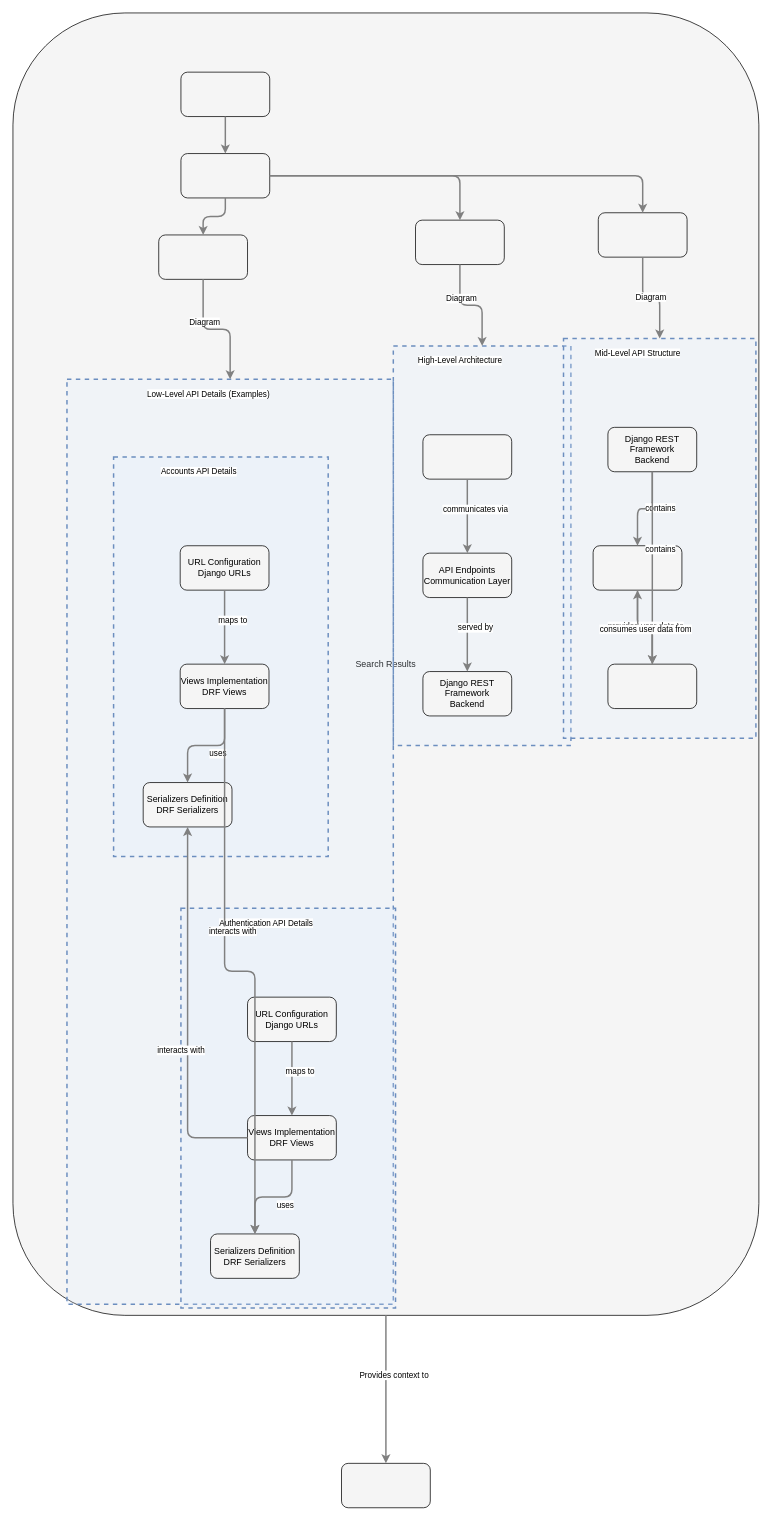
Some shapes in this 772 by 1521 pixel diagram are drawn without their labels. The centre of each missing label's shape, as x and y in pixels:
Accounts API DRF App: the point at 652,686
Authentication API DRF App: the point at 637,567
Frontend Client Application: the point at 467,456
Terminal: the point at 385,1485
